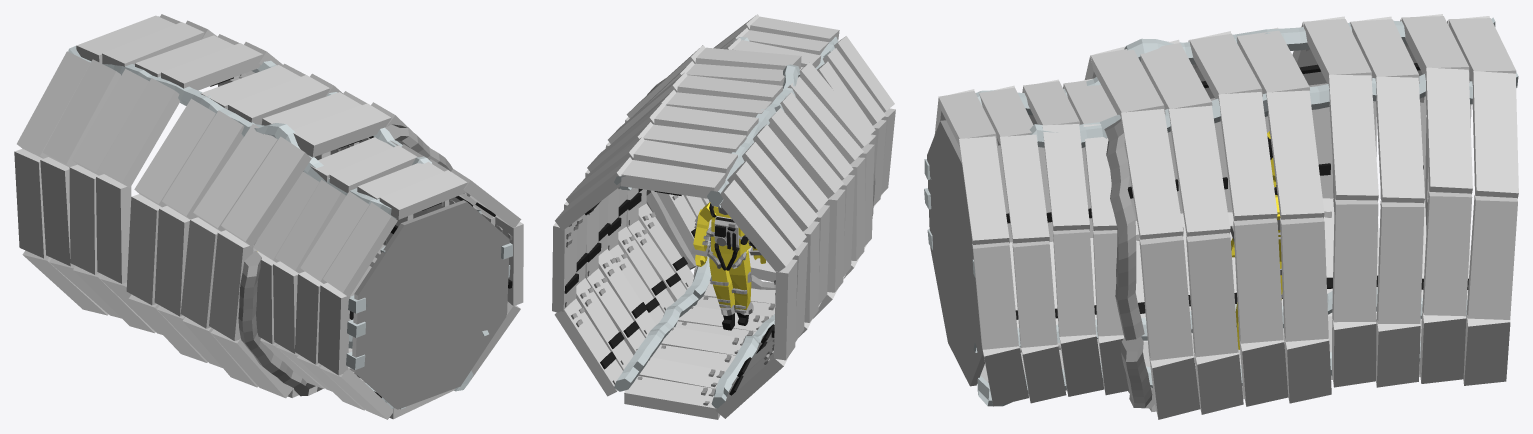
The model's file is HAL.obj.
3 renders of one model, left to right at view 1: azimuth 30°, elevation 25°; view 2: azimuth 150°, elevation 25°; view 3: azimuth 270°, elevation 25°, orthographic. The views are drawn at different scales.
Bounding box in the file's own units: 2.97 × 2.51 × 4.13.
